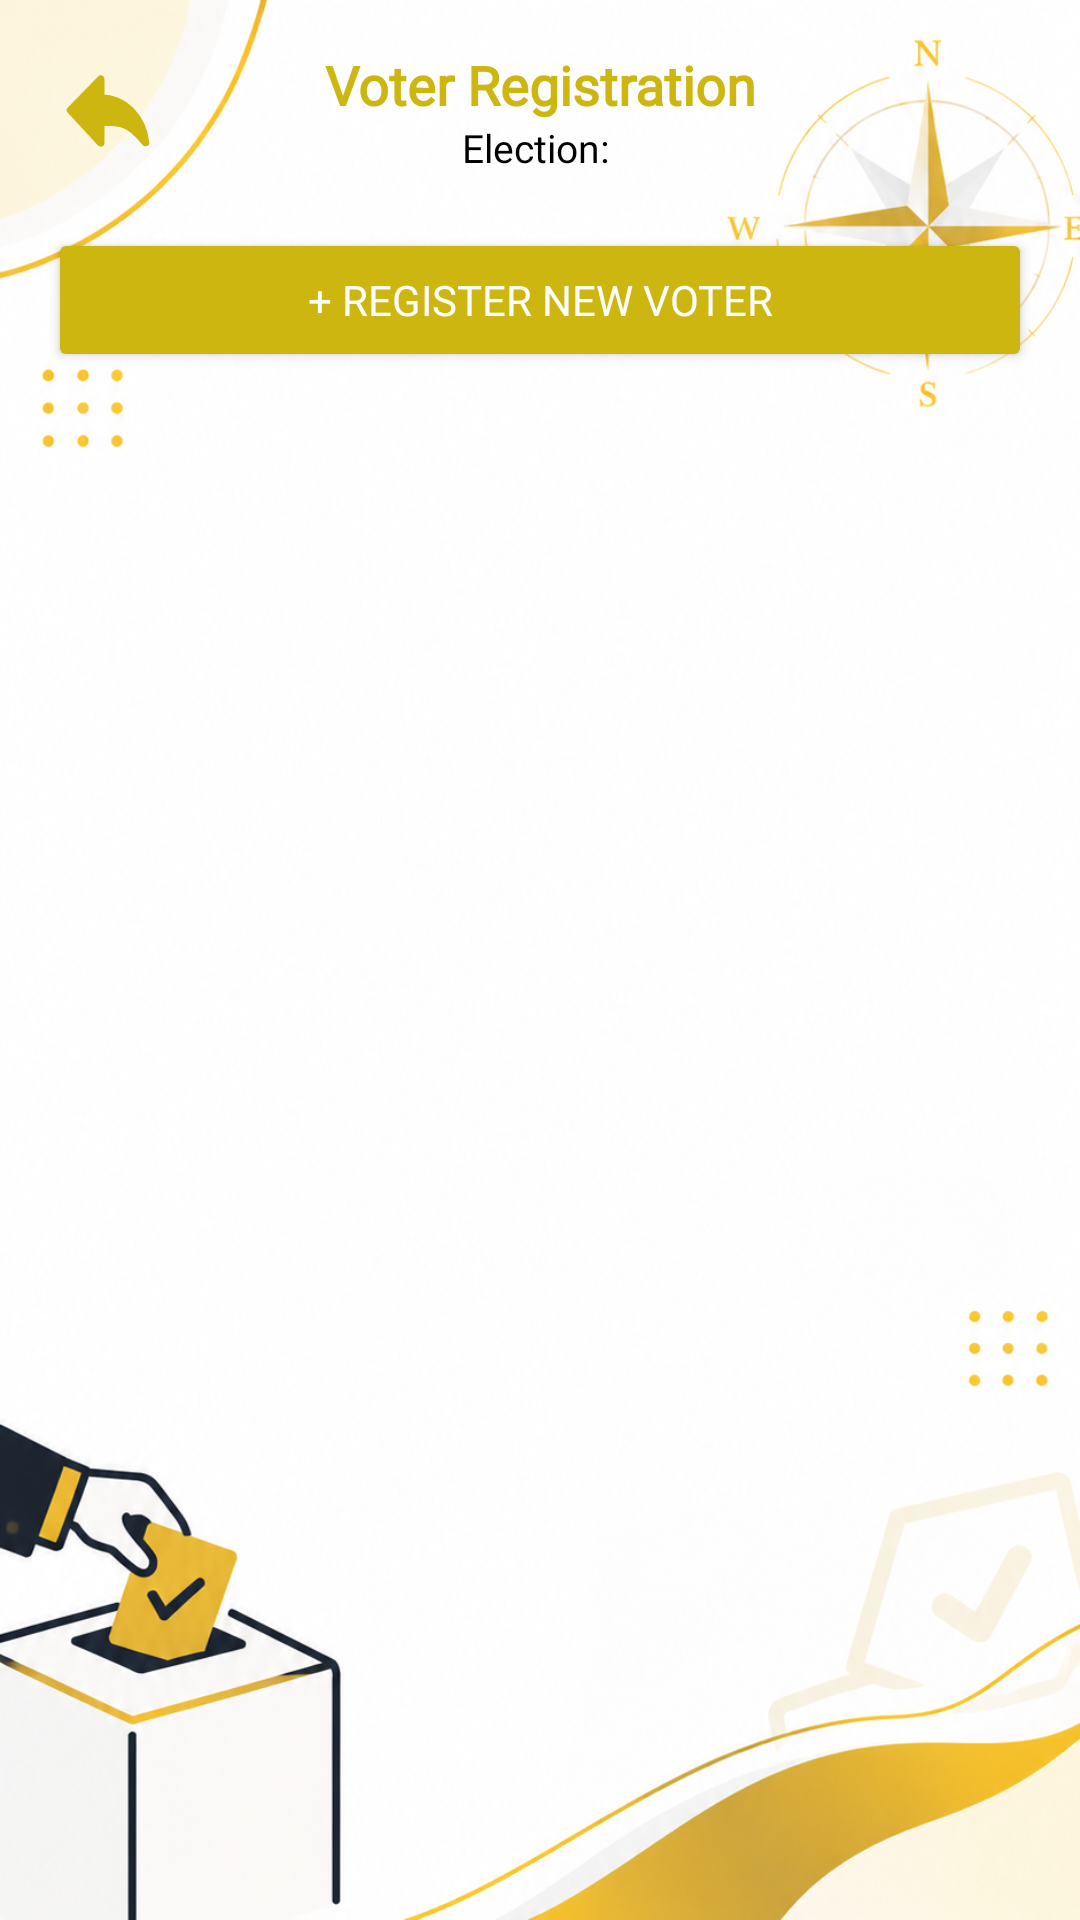

Icon bounding boxes for this 1080w x 1920h phone screenshot, format [x1,y1,x2,y2]:
Back: [66,74,168,171]
